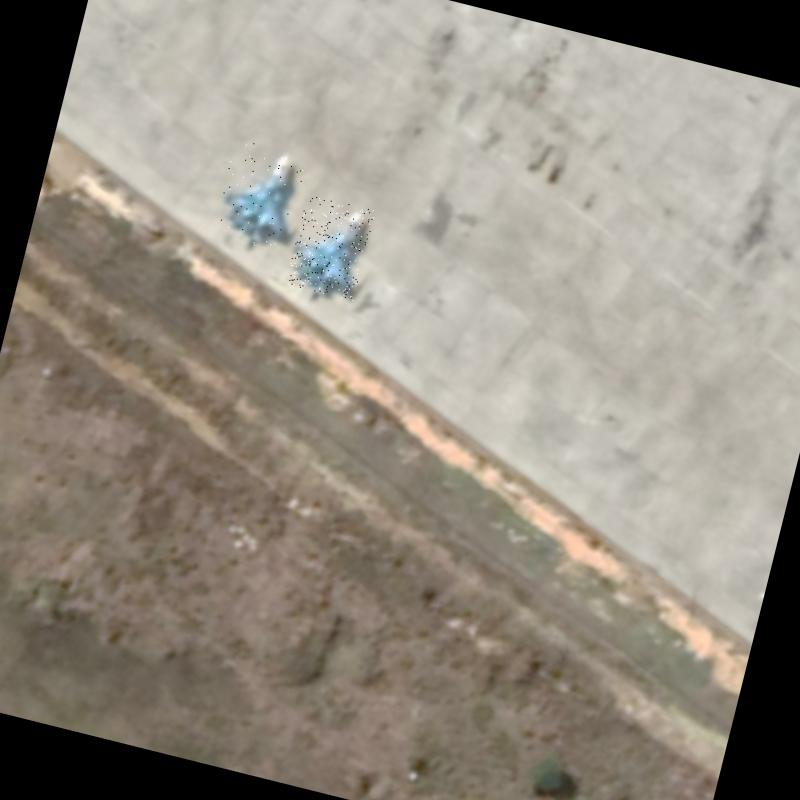A19: (211, 137, 308, 252), (285, 194, 375, 301)
